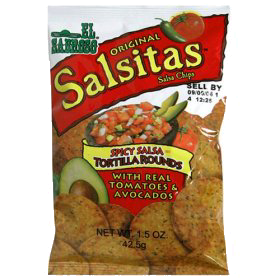grozi_20: (47, 4, 235, 274)
